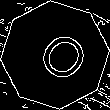O_SW: (22, 21, 88, 89)
